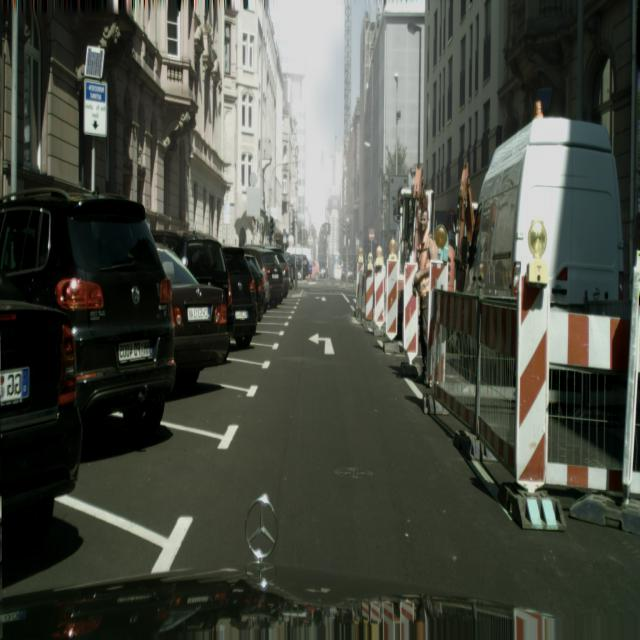motorcycle: (469, 107, 626, 310)
person: (412, 206, 440, 389)
rider: (397, 166, 437, 287), (452, 160, 479, 281)
truck: (1, 190, 177, 439), (0, 294, 83, 541), (155, 244, 231, 384), (155, 231, 232, 336), (223, 248, 258, 349), (257, 249, 286, 308), (244, 251, 269, 319)
